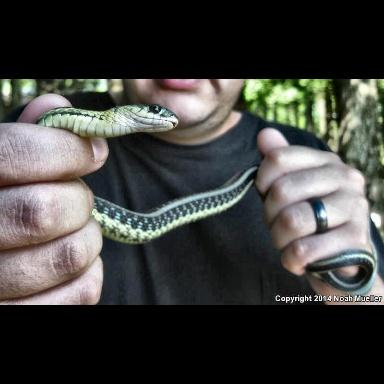snake: (92, 167, 259, 245), (35, 105, 179, 139), (305, 250, 380, 297)
